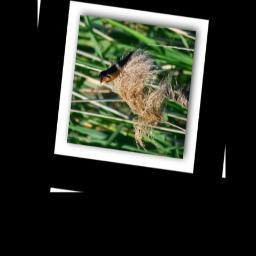Swallow: (97, 42, 137, 90)
